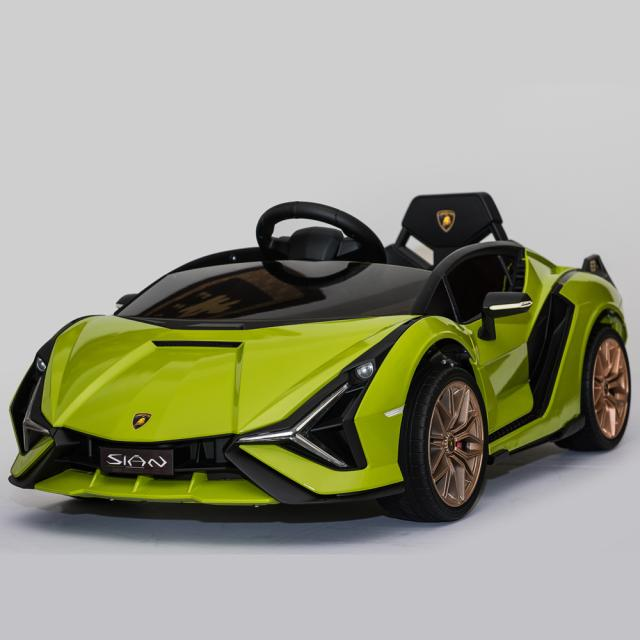Car: (8, 191, 631, 524)
